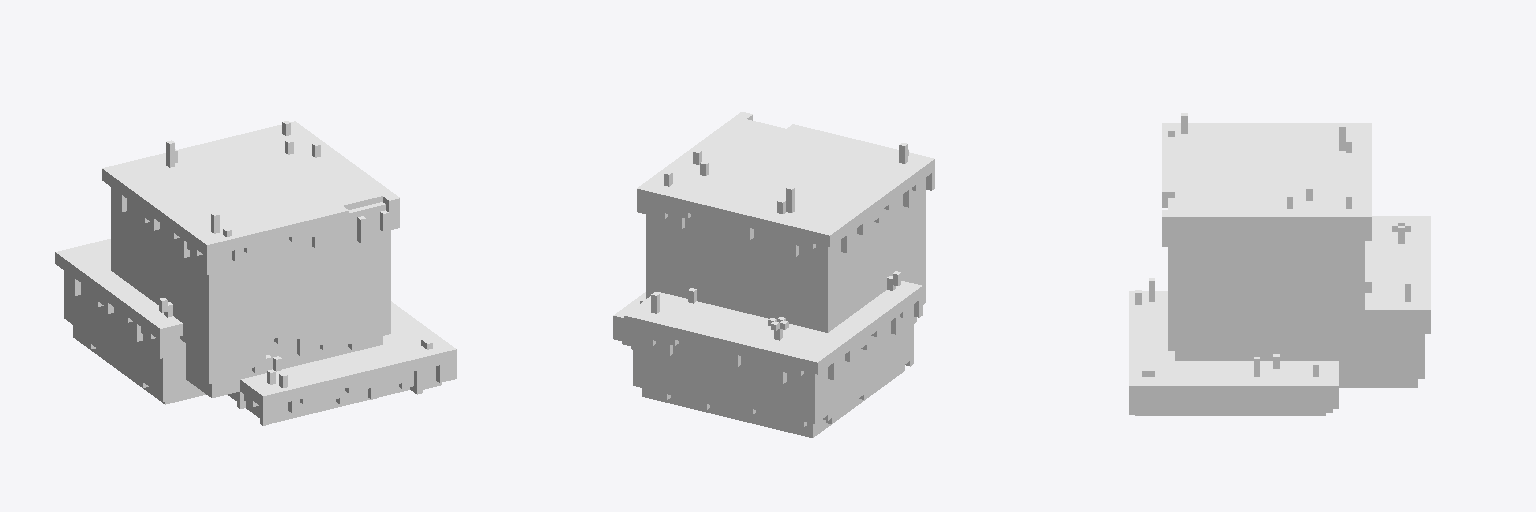
The model's file is island1.obj.
The picture shows the model from 3 angles: view 1: azimuth 30°, elevation 25°; view 2: azimuth 150°, elevation 25°; view 3: azimuth 270°, elevation 25°; orthographic projection.
Parts seen in each view (by area): view 1: object 1; view 2: object 1; view 3: object 1.
Boxes of the visible parts, <box> form: object 1: <box>55,121,456,425</box>; object 1: <box>613,112,934,437</box>; object 1: <box>1129,113,1430,415</box>.
Size of the model in its own units: 4.4 by 3.5 by 4.6.